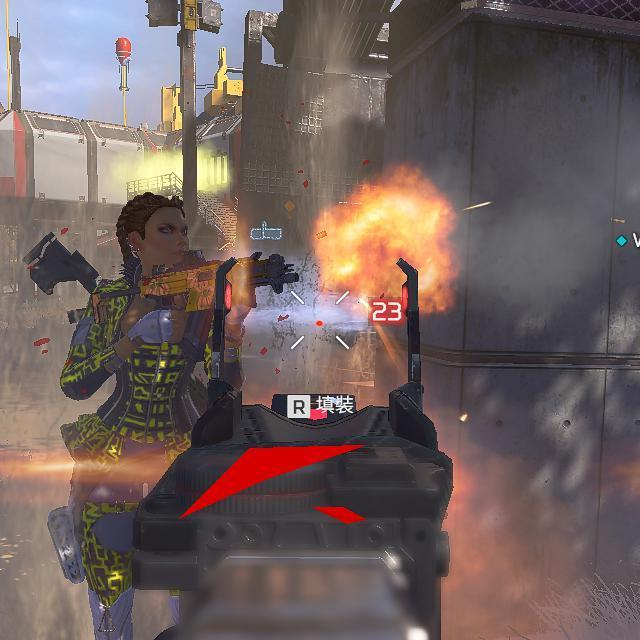avatar: (22, 191, 300, 640)
